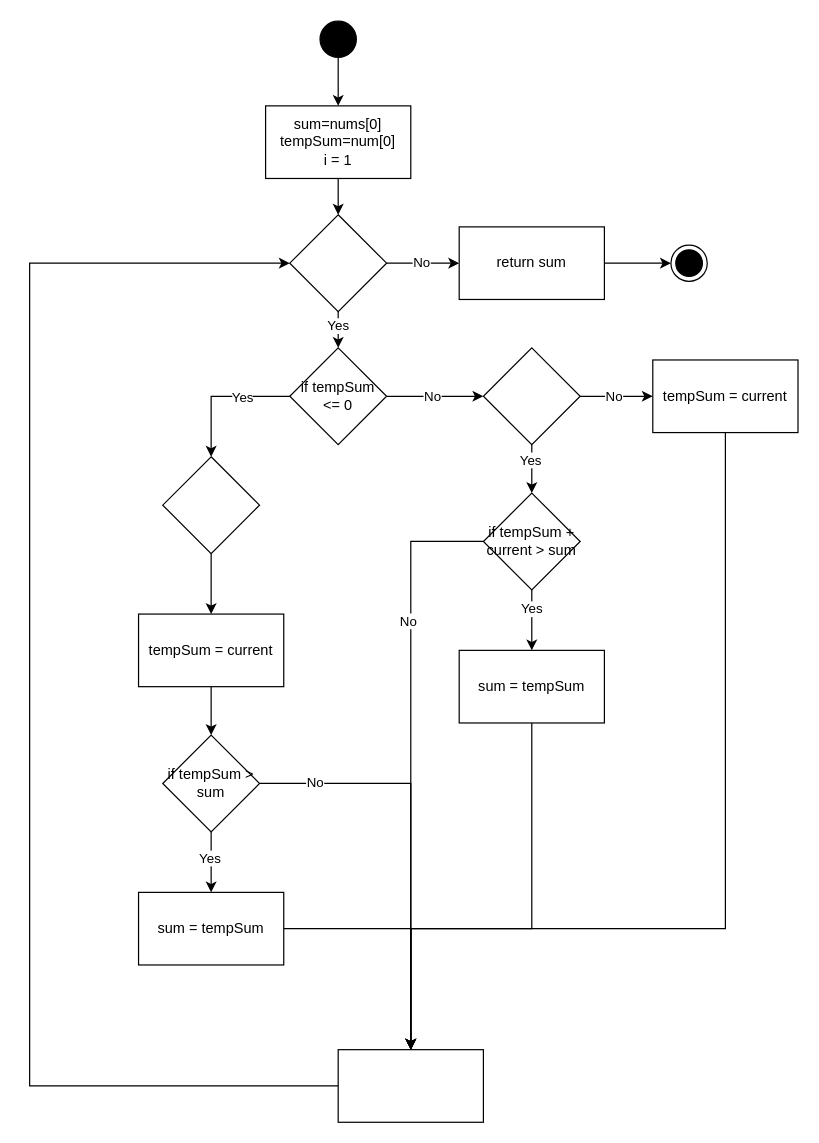
This 819x1143 diagram has some shape labels left out. The shapes that lost their labels are listed below. From the top down, each one's box as (x1, y1, x2, y2) in pixels, then its label:
(289, 214, 387, 312): while i < nums.length
(482, 347, 580, 445): if tempSum + current > 0
(162, 456, 260, 554): if current > tempSum
(337, 1048, 483, 1122): i++
